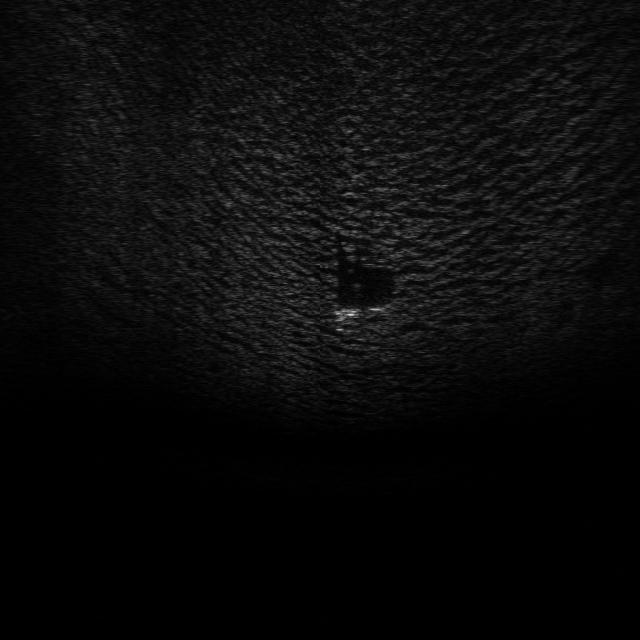plane: (326, 297, 396, 323)
